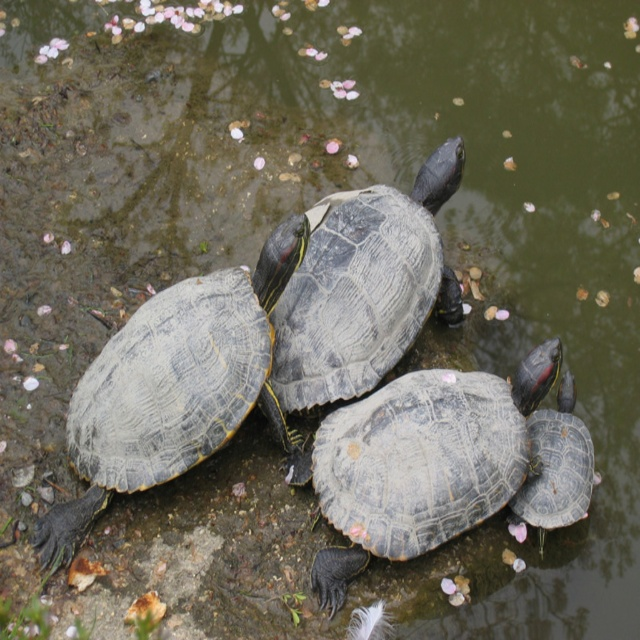Sea turtle: (29, 211, 311, 569), (280, 339, 563, 623), (278, 135, 466, 442), (507, 374, 598, 560)
